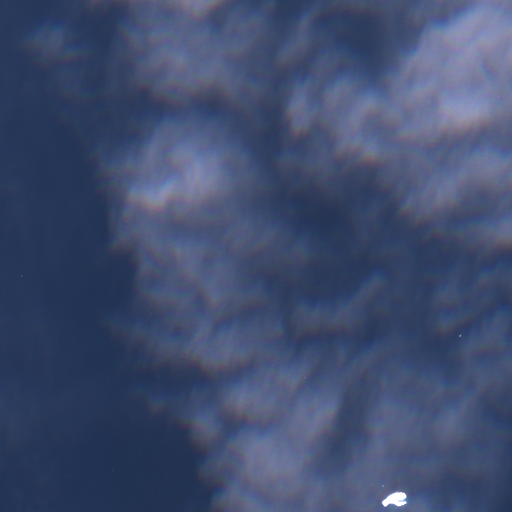Iceberg: (381, 492, 407, 506), (459, 334, 461, 336), (382, 485, 383, 486)
